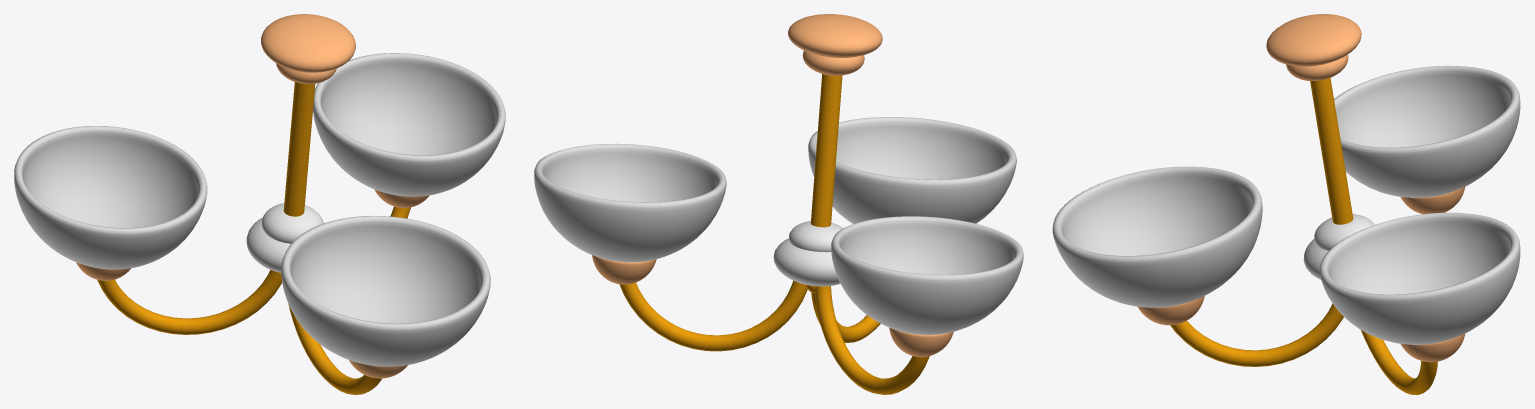
Rendered from Cleaning Lamp.fbx.
The picture shows the model from 3 angles, left to right: view 1: azimuth 30°, elevation 25°; view 2: azimuth 150°, elevation 25°; view 3: azimuth 270°, elevation 25°; orthographic projection.
Parts seen in each view (by area): view 1: Sphere.004, Sphere.006, Sphere.008, Sphere.013, Torus.001, Cylinder.031, Torus.003, Sphere.011, Sphere.010, Sphere.012, Sphere.005, Sphere.007 (+1 smaller); view 2: Sphere.006, Sphere.008, Sphere.004, Torus.005, Sphere.013, Cylinder.031, Torus.001, Sphere.010, Sphere.007, Sphere.009, Sphere.011, Sphere.012 (+1 smaller); view 3: Sphere.004, Sphere.008, Sphere.006, Sphere.013, Torus.003, Cylinder.031, Torus.005, Sphere.011, Sphere.005, Sphere.009, Sphere.007, Sphere.012 (+1 smaller).
Boxes of the visible parts, x1,y1,x2,y2 form: Sphere.004: [281, 215, 490, 366]; Sphere.006: [14, 126, 207, 269]; Sphere.008: [313, 53, 505, 196]; Sphere.013: [261, 14, 355, 72]; Torus.001: [97, 270, 282, 334]; Cylinder.031: [283, 82, 315, 216]; Torus.003: [288, 304, 381, 394]; Sphere.011: [261, 203, 323, 243]; Sphere.010: [246, 217, 323, 272]; Sphere.012: [276, 63, 336, 84]; Sphere.005: [349, 360, 407, 378]; Sphere.007: [76, 262, 130, 280]; Sphere.006: [831, 216, 1023, 334]; Sphere.008: [534, 143, 726, 262]; Sphere.004: [808, 117, 1016, 223]; Torus.005: [619, 280, 807, 351]; Sphere.013: [788, 14, 882, 57]; Cylinder.031: [806, 74, 842, 293]; Torus.001: [815, 286, 929, 394]; Sphere.010: [773, 238, 840, 286]; Sphere.007: [889, 327, 953, 357]; Sphere.009: [592, 255, 656, 284]; Sphere.011: [789, 221, 843, 252]; Sphere.012: [802, 50, 864, 75]; Sphere.004: [1052, 166, 1262, 307]; Sphere.008: [1319, 212, 1520, 344]; Sphere.006: [1334, 65, 1520, 197]; Sphere.013: [1266, 14, 1361, 66]; Torus.003: [1170, 303, 1343, 366]; Cylinder.031: [1310, 78, 1353, 224]; Torus.005: [1361, 330, 1437, 394]; Sphere.011: [1314, 214, 1374, 250]; Sphere.005: [1138, 296, 1204, 325]; Sphere.009: [1400, 333, 1465, 362]; Sphere.007: [1400, 187, 1465, 214]; Sphere.012: [1286, 54, 1348, 80].
Bounding box in the file's own units: 522 × 364 × 451.
